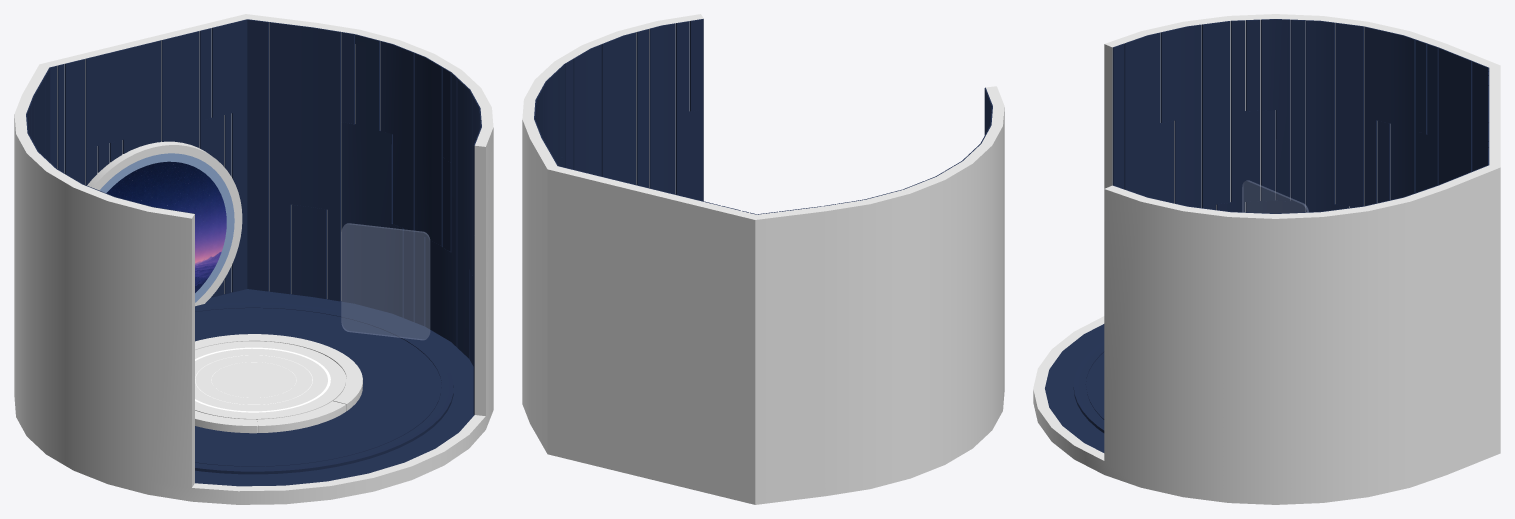
File: DonP_Models.glb
3 renders of one model, left to right at view 1: azimuth 30°, elevation 25°; view 2: azimuth 150°, elevation 25°; view 3: azimuth 270°, elevation 25°, orthographic.
Parts seen in each view (by area): view 1: Room, Platform_Main_B, Platform_Main, FloatingPanel, Platform_Base, Image_PlaceHolder, Portal; view 2: Room; view 3: Room, Platform_Base, Platform_Main_B, FloatingPanel.
Part boxes in pixels (x1=…): Room: x1=14, y1=14, x2=493, y2=504; Platform_Main_B: x1=195, y1=302, x2=453, y2=474; Platform_Main: x1=195, y1=334, x2=362, y2=433; FloatingPanel: x1=341, y1=223, x2=429, y2=339; Platform_Base: x1=195, y1=289, x2=474, y2=486; Image_PlaceHolder: x1=106, y1=161, x2=226, y2=292; Portal: x1=87, y1=141, x2=242, y2=306; Room: x1=522, y1=14, x2=1004, y2=504; Room: x1=1033, y1=14, x2=1500, y2=504; Platform_Base: x1=1045, y1=324, x2=1104, y2=452; Platform_Main_B: x1=1073, y1=341, x2=1104, y2=432; FloatingPanel: x1=1242, y1=180, x2=1308, y2=213.
Size of the model in its own units: 6.3 by 4.15 by 6.07.
Materials: 6 (1 with a texture image).
